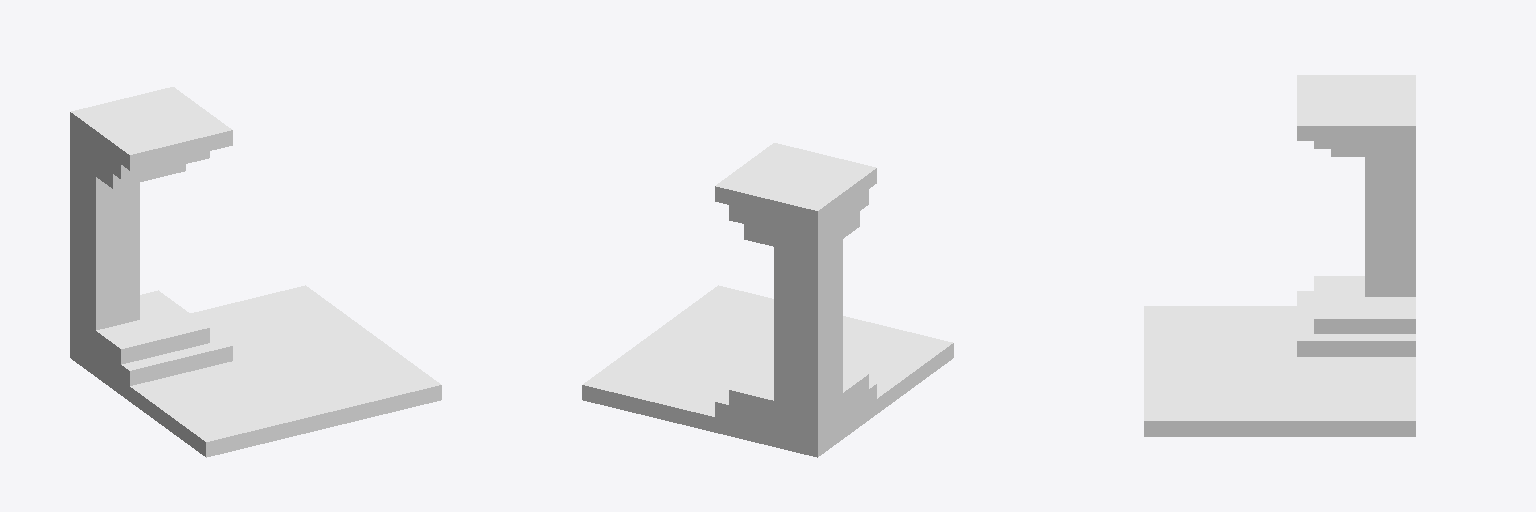
Rendered from church-8-cata_cornerinv.obj.
The picture shows the model from 3 angles: view 1: azimuth 30°, elevation 25°; view 2: azimuth 150°, elevation 25°; view 3: azimuth 270°, elevation 25°; orthographic projection.
Parts seen in each view (by area): view 1: cata_cornerinv; view 2: cata_cornerinv; view 3: cata_cornerinv.
Part boxes in pixels (left/top/right/bottom): cata_cornerinv: left=70, top=87, right=441, bottom=457; cata_cornerinv: left=582, top=143, right=953, bottom=457; cata_cornerinv: left=1144, top=75, right=1415, bottom=436.
Bounding box in the file's own units: 1.6 × 1.6 × 1.6.